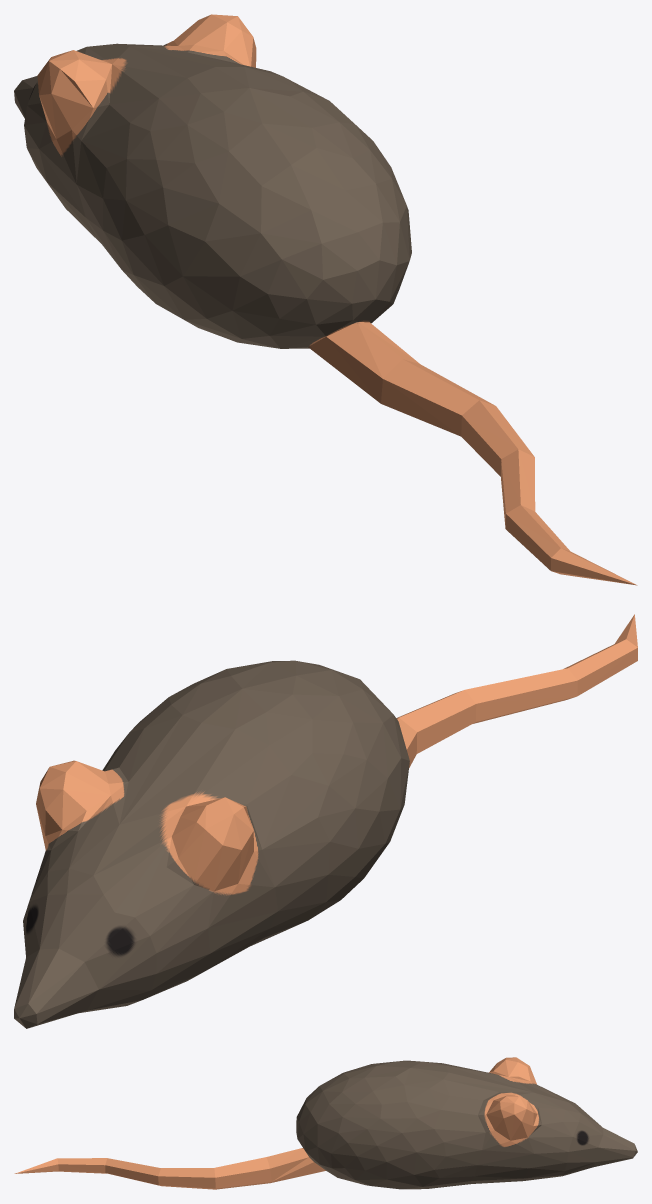
File: animal_rat_blob.obj
The picture shows the model from 3 angles, top to bottom: view 1: azimuth 30°, elevation 25°; view 2: azimuth 150°, elevation 25°; view 3: azimuth 270°, elevation 25°; orthographic projection. The views are drawn at different scales.
Visible parts, largest first — view 1: animal_rat_blob; view 2: animal_rat_blob; view 3: animal_rat_blob.
Boxes of the visible parts, box(x1,y1,x2,y2) form: animal_rat_blob: box(14, 14, 637, 585); animal_rat_blob: box(14, 614, 637, 1028); animal_rat_blob: box(14, 1057, 637, 1189).
Size of the model in its own units: 0.209 by 0.186 by 0.9319.
